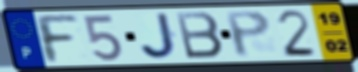2: (275, 8, 317, 58)
5: (81, 13, 125, 63)
B: (173, 11, 226, 61)
F: (31, 14, 82, 65)
J: (138, 11, 181, 61)
P: (222, 9, 273, 59)
